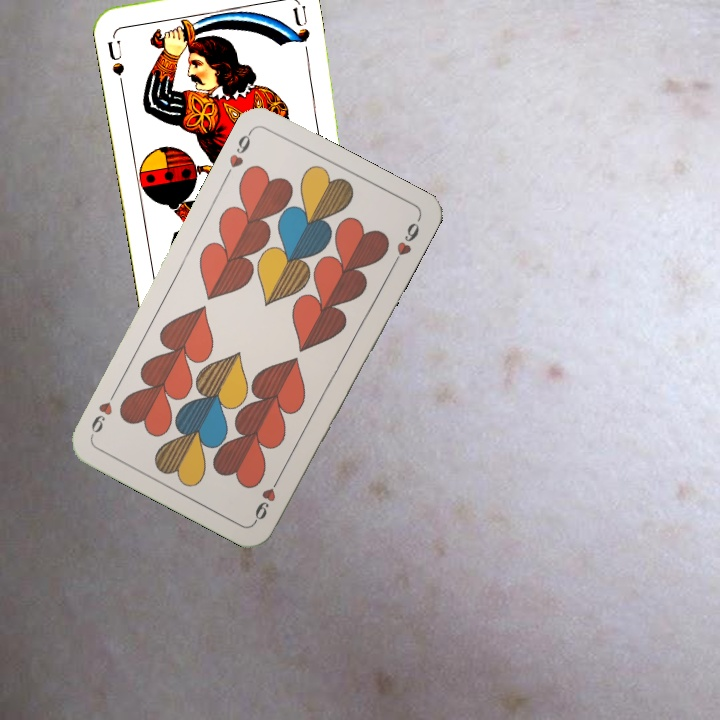H9: (220, 126, 255, 181), (250, 470, 284, 525)
SU: (103, 31, 127, 90)
